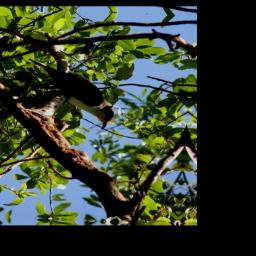Cuckoo: (21, 60, 118, 131)
